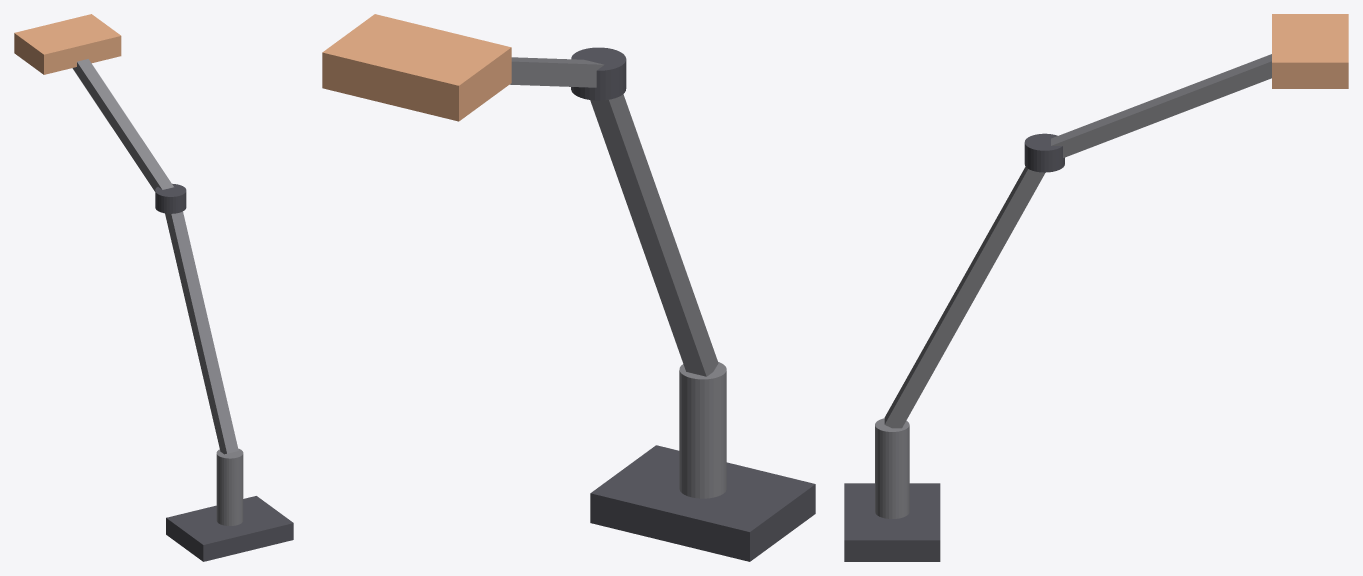
3 renders of one model, left to right at view 1: azimuth 30°, elevation 25°; view 2: azimuth 150°, elevation 25°; view 3: azimuth 270°, elevation 25°, orthographic. The views are drawn at different scales.
Visible parts, largest first — view 1: Base, LowerArm, Head, UpperArm, Stem, Joint; view 2: Base, Head, LowerArm, Stem, UpperArm, Joint; view 3: Base, LowerArm, Head, UpperArm, Stem, Joint.
Boxes of the visible parts, <box> form: Base: <box>166,496,293,561</box>; LowerArm: <box>165,211,238,454</box>; Head: <box>14,14,121,74</box>; UpperArm: <box>72,59,173,191</box>; Stem: <box>216,448,243,525</box>; Joint: <box>155,183,186,213</box>; Base: <box>590,445,815,561</box>; Head: <box>322,14,511,121</box>; LowerArm: <box>590,94,718,376</box>; Stem: <box>679,362,726,498</box>; UpperArm: <box>510,57,604,87</box>; Joint: <box>571,47,626,100</box>; Base: <box>844,483,940,561</box>; LowerArm: <box>884,166,1045,428</box>; Head: <box>1272,14,1348,88</box>; UpperArm: <box>1051,54,1271,157</box>; Stem: <box>875,418,909,518</box>; Joint: <box>1024,133,1064,172</box>.
Bounding box in the file's own units: 0.14 × 0.5687 × 0.5251.
